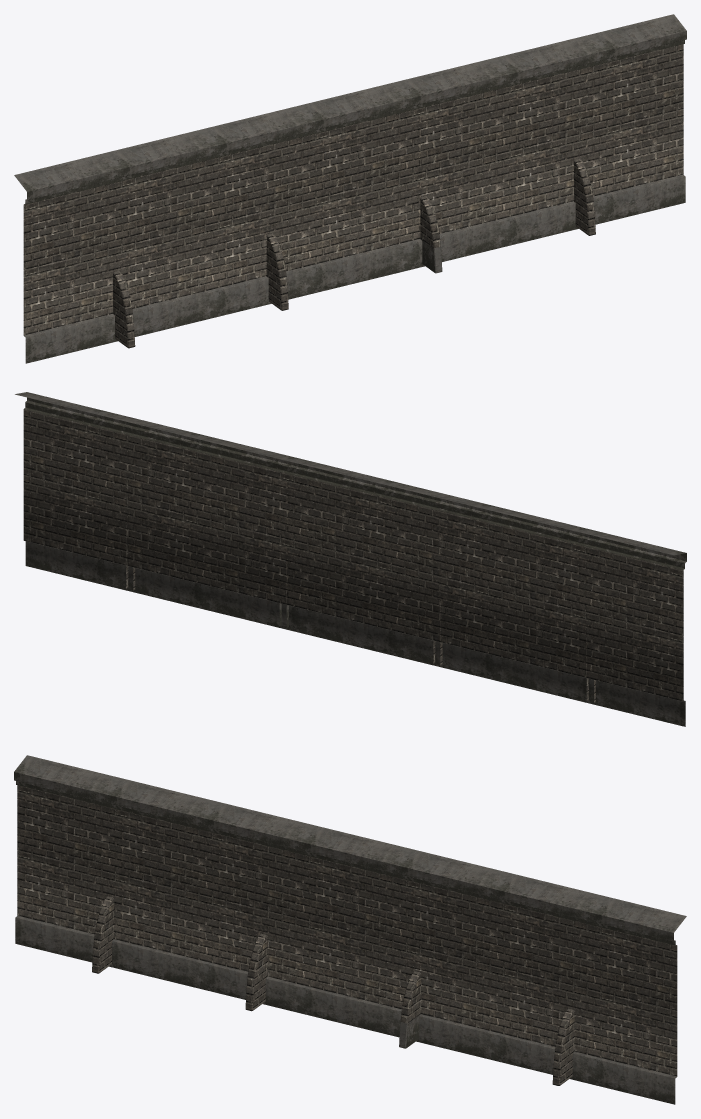
The model's file is backWallLow.FBX.
3 renders of one model, top to bottom at view 1: azimuth 30°, elevation 25°; view 2: azimuth 150°, elevation 25°; view 3: azimuth 330°, elevation 25°, orthographic.
Parts seen in each view (by area): view 1: backWallLow; view 2: backWallLow; view 3: backWallLow.
Part boxes in pixels (<box>): backWallLow: <box>14,14,686,363</box>; backWallLow: <box>15,392,686,726</box>; backWallLow: <box>14,755,686,1104</box>.
Bounding box in the file's own units: 2457 × 641 × 161.
2 materials, 2 textured.
